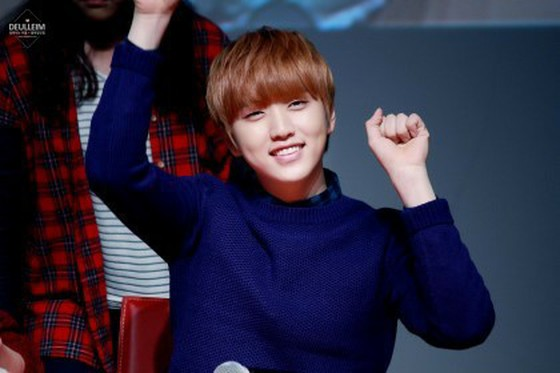face: (225, 80, 337, 184)
hand: (365, 107, 432, 167)
